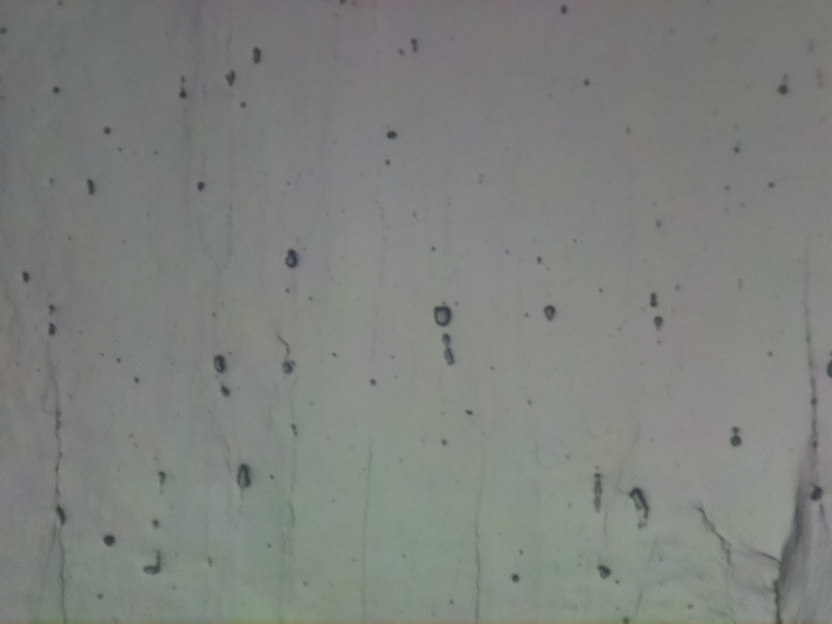crack: (758, 549, 786, 624), (698, 503, 729, 566)
